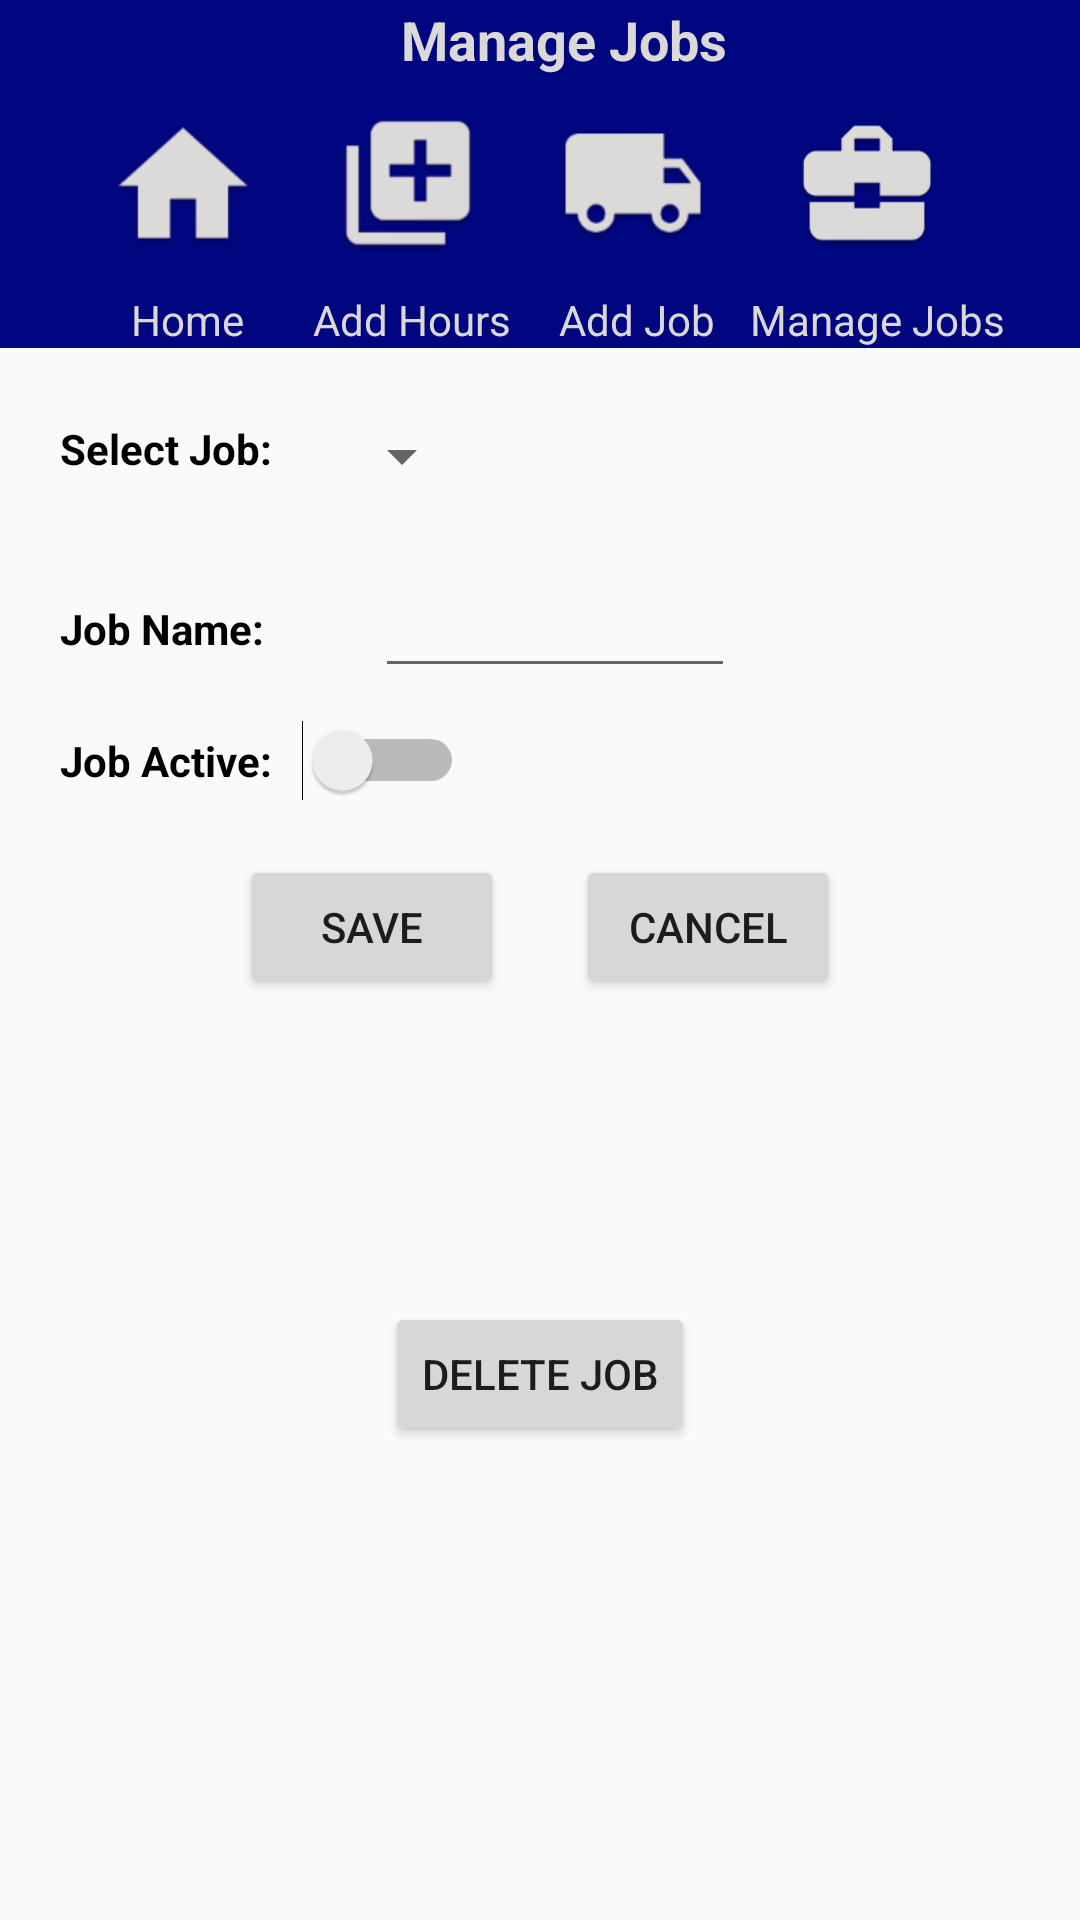

Icon bounding boxes for this 1080×1920 phone screenshot, format (x1, y1, x2, y2):
job manager: (803, 125, 931, 242)
